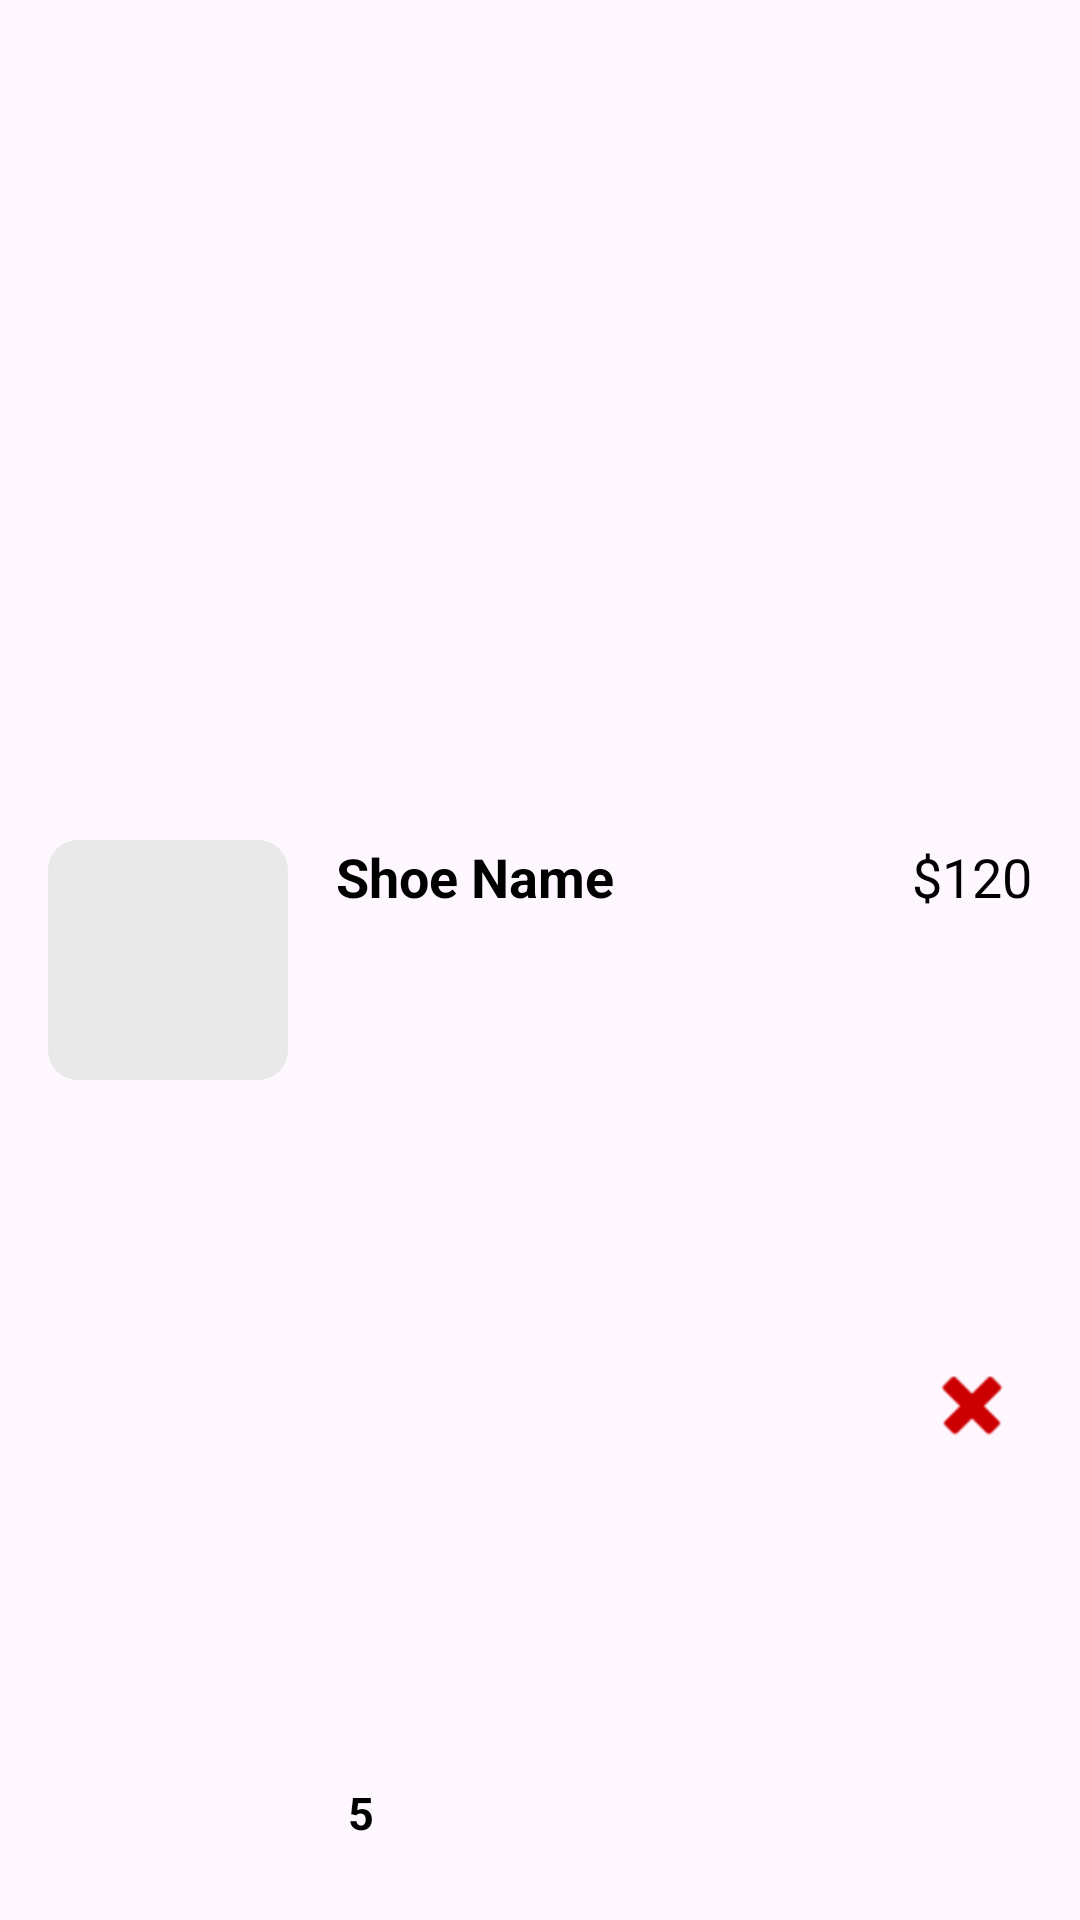

Screen size 1080 x 1920. Icon name, then its center in pixels as [x,y]:
delete: [972,1405]
